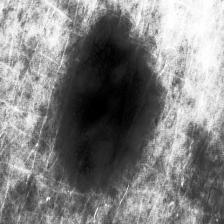Benign Marking or Mole: (57, 18, 155, 182)
